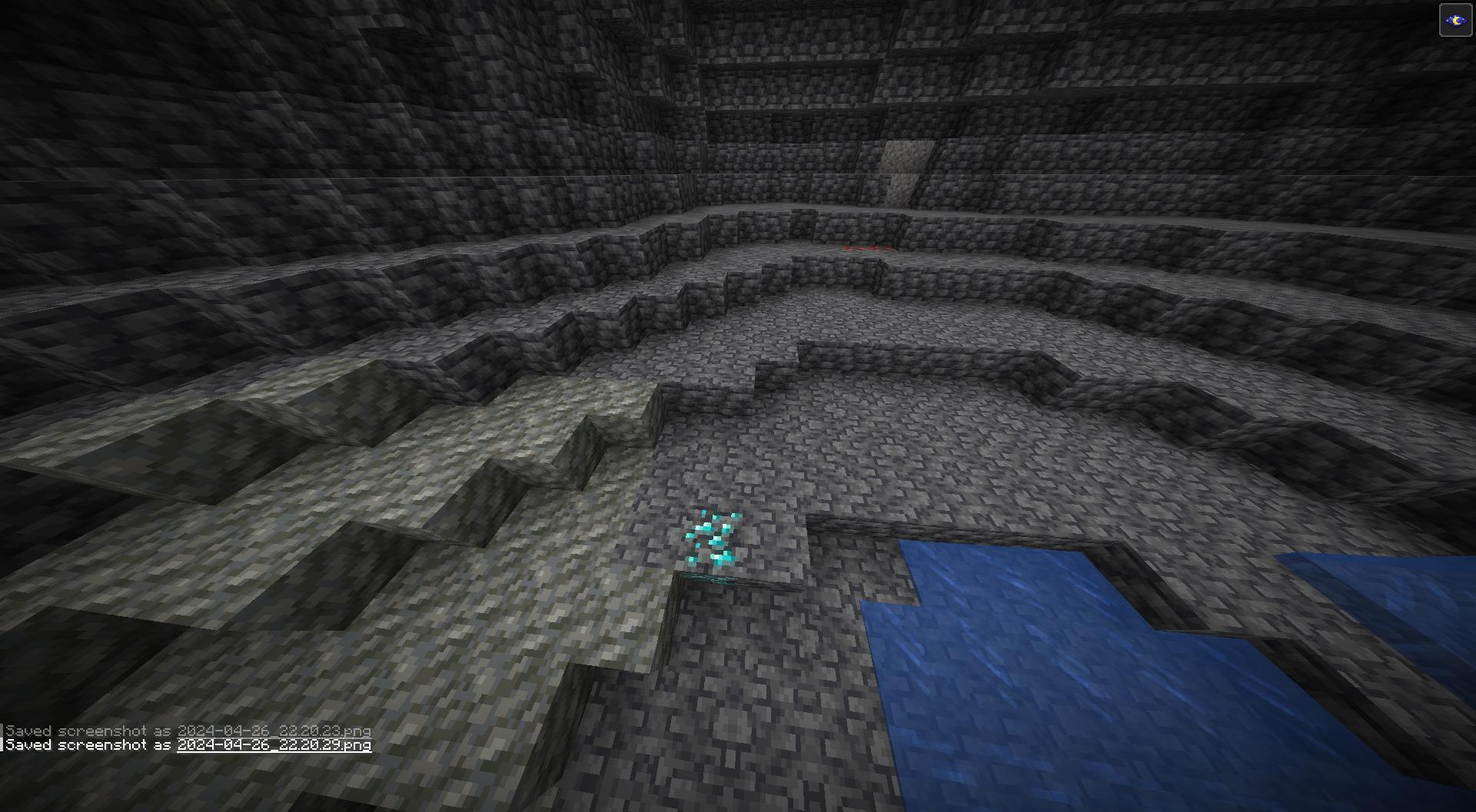diamond ore: (679, 507, 743, 585)
redstone ore: (840, 241, 898, 255)
